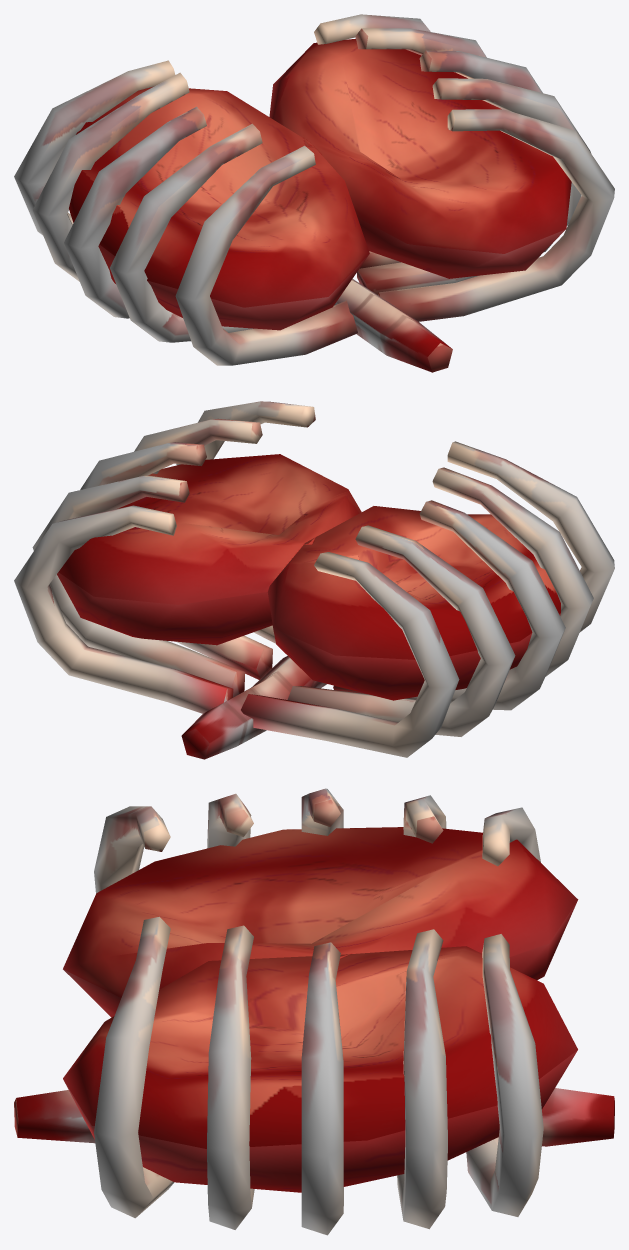
The model's file is Ribcage.fbx.
3 views of the same model, one above another, from view 1: azimuth 30°, elevation 25°; view 2: azimuth 150°, elevation 25°; view 3: azimuth 270°, elevation 25° (orthographic). The views are drawn at different scales.
Parts seen in each view (by area): view 1: Lungs, Ribs, Spine; view 2: Ribs, Lungs, Spine; view 3: Lungs, Ribs, Spine.
Boxes of the visible parts, x1,y1,x2,y2 form: Lungs: (69,38,571,330); Ribs: (14,14,614,365); Spine: (334,279,452,372); Ribs: (14,401,614,757); Lungs: (57,454,560,700); Spine: (181,656,326,759); Lungs: (63,827,578,1192); Ribs: (94,788,543,1235); Spine: (14,1088,614,1146).
Bounding box in the file's own units: 76.07 × 31.18 × 62.42.
